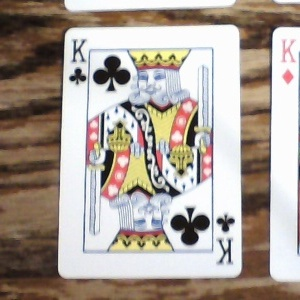card: (58, 23, 242, 279)
